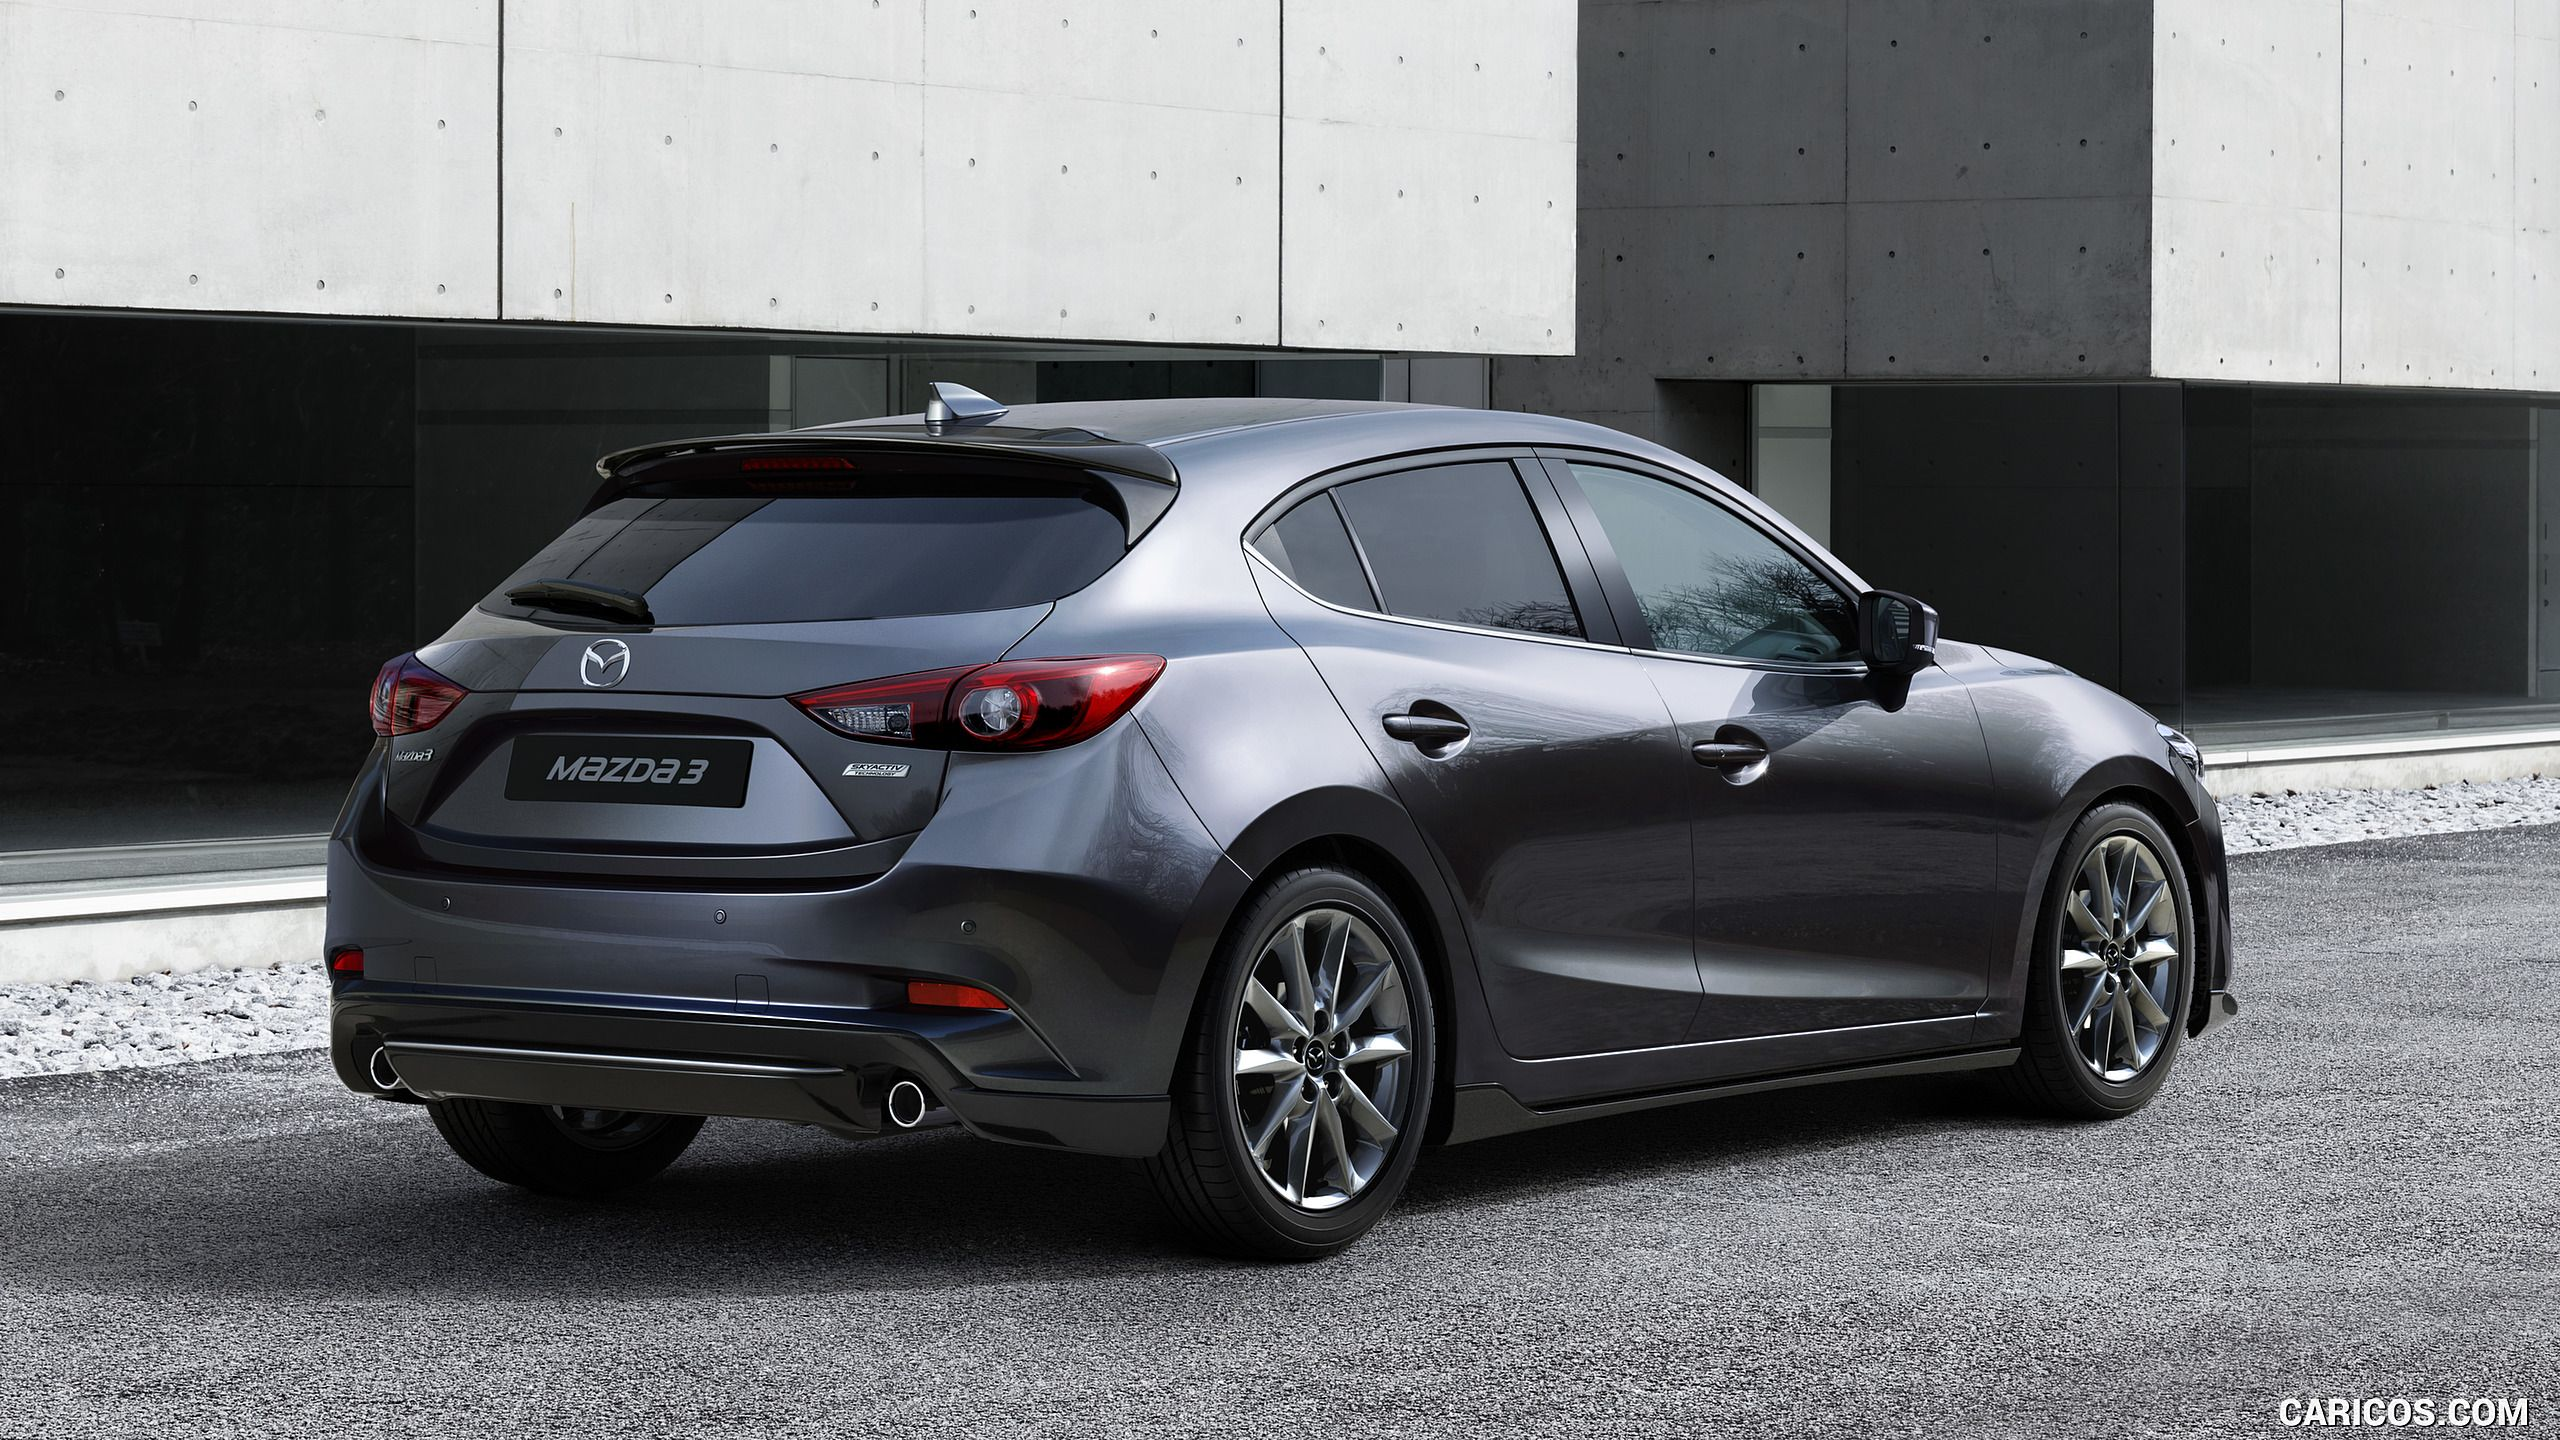Mazda3 Hatchback: (297, 355, 2259, 1292)
